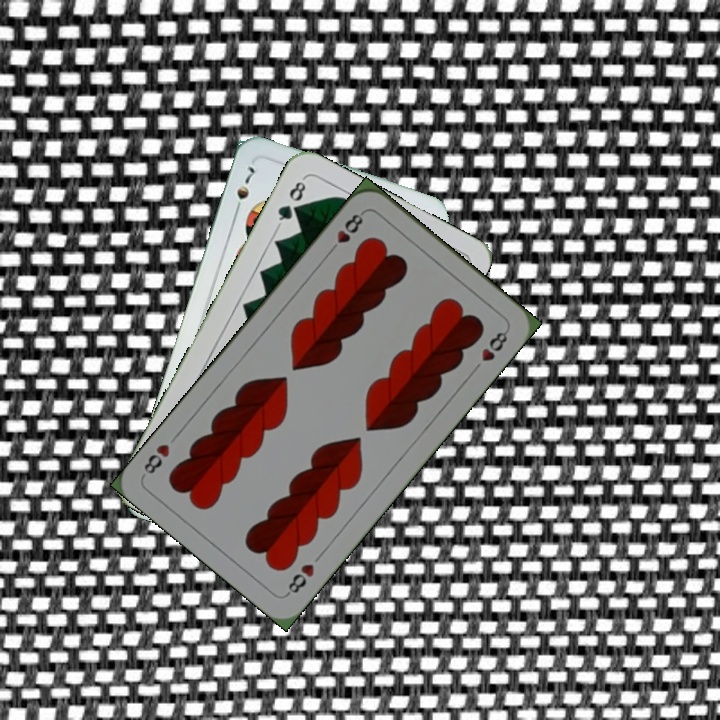G8: (273, 174, 311, 229)
H8: (324, 207, 367, 257), (282, 559, 317, 599)
S7: (230, 162, 261, 217)
